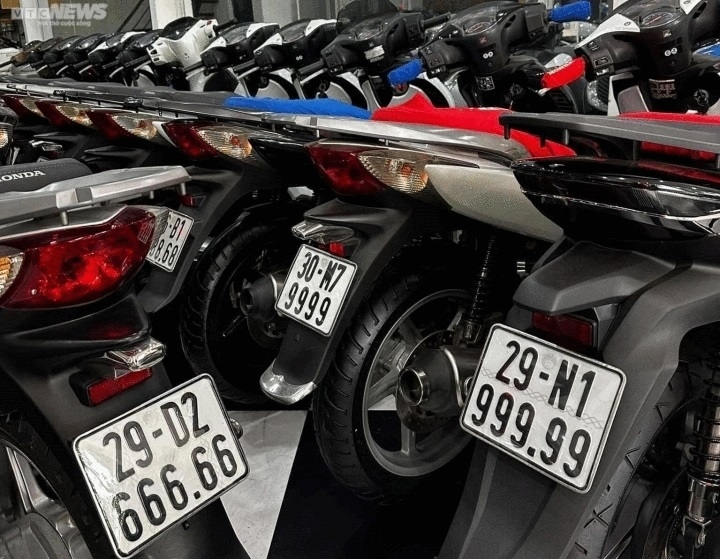number_plate: (457, 311, 636, 503), (68, 398, 250, 533), (277, 235, 360, 340), (145, 214, 198, 268)
